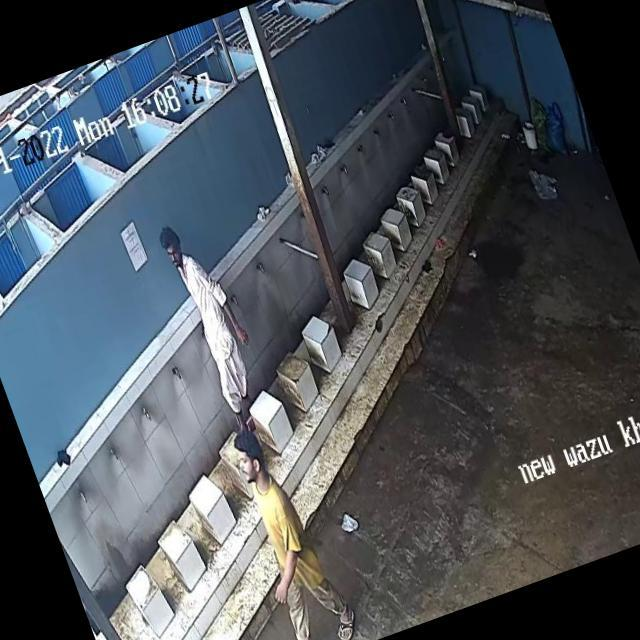person: (230, 423, 354, 640), (150, 217, 255, 409)
